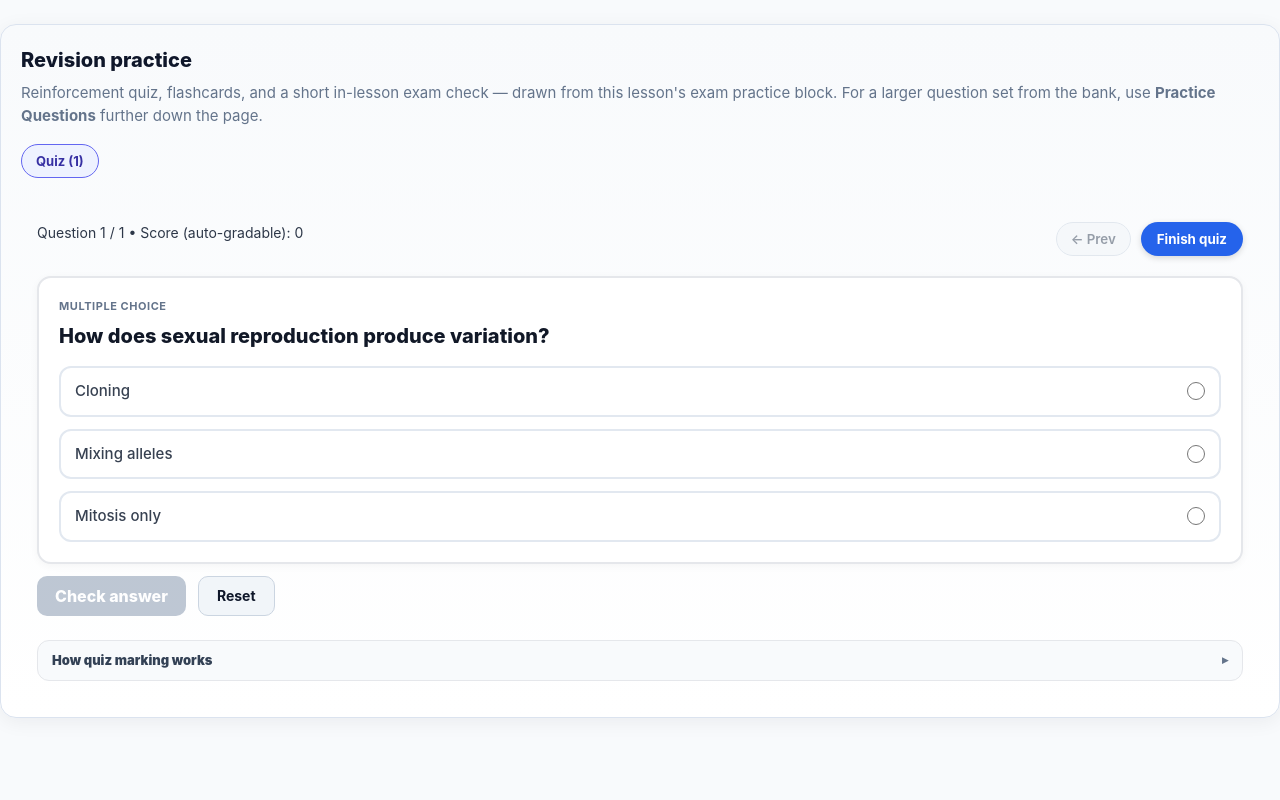
Test: StudentRetrievalSection fresh CTA gate › enableFreshPractice false never mounts CTA after finish
The image size is (1280, 800).
What coordinates should you click on to do the following:
click the radio button named "Mixing alleles"
I would click on:
 (1196, 454)
Its box is [1187,445,1205,463].
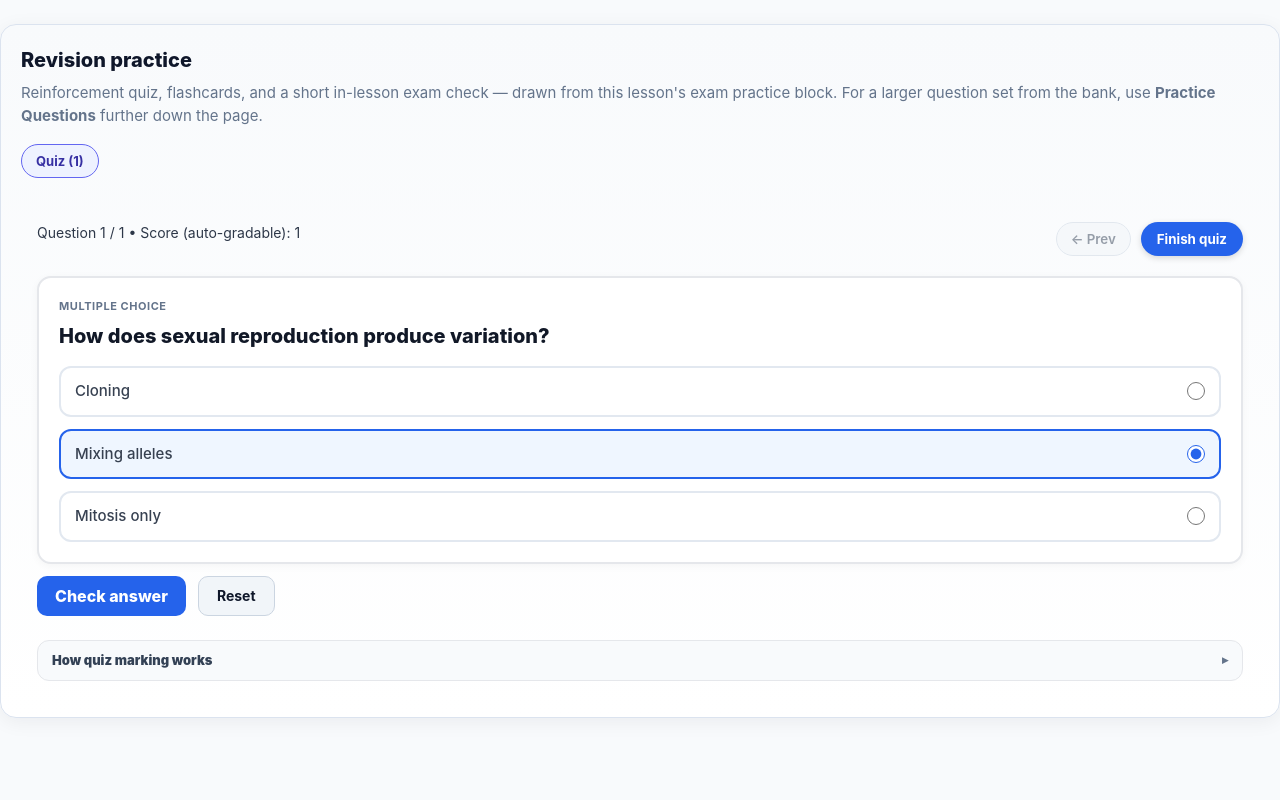
What coordinates should you click on to do the following:
click the button "Check answer"
I would click on:
 (111, 596)
Its box is [37,576,186,616].
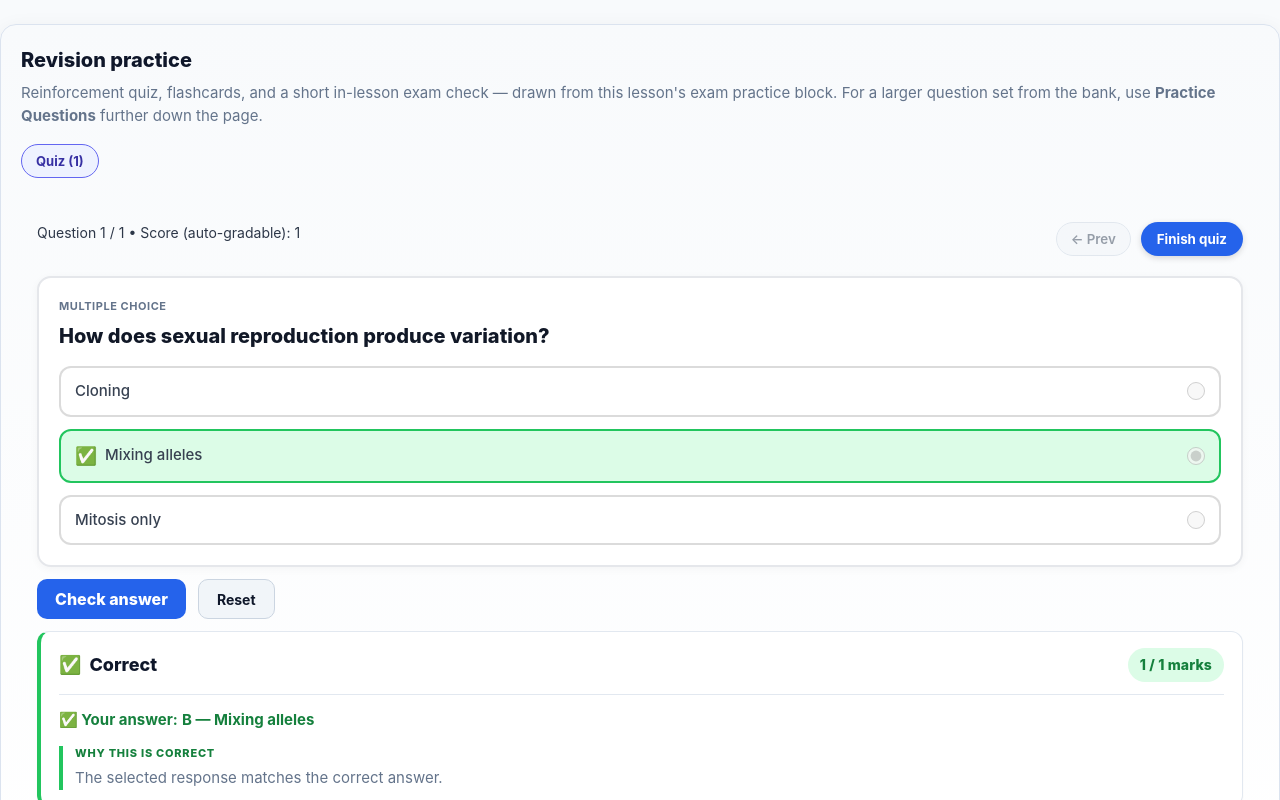
What coordinates should you click on to do the following:
click the button "Finish quiz"
I would click on:
 (1192, 238)
Its box is [1141,222,1243,256].
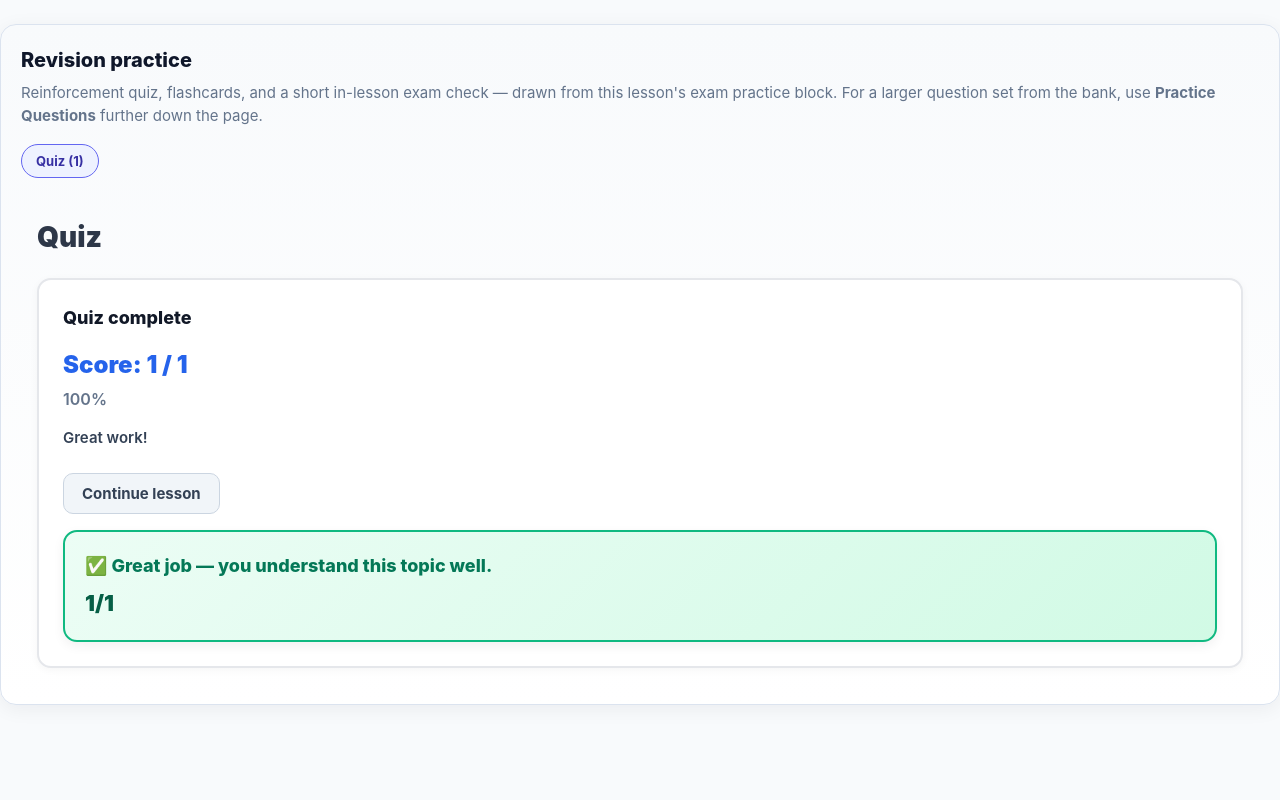
Expected: the text "Quiz complete" is shown, [63,306,192,328]
